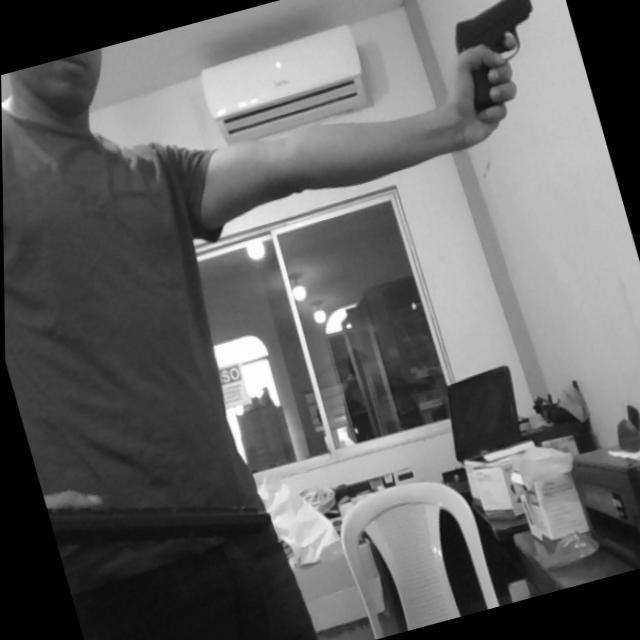weapon: (441, 0, 556, 113)
